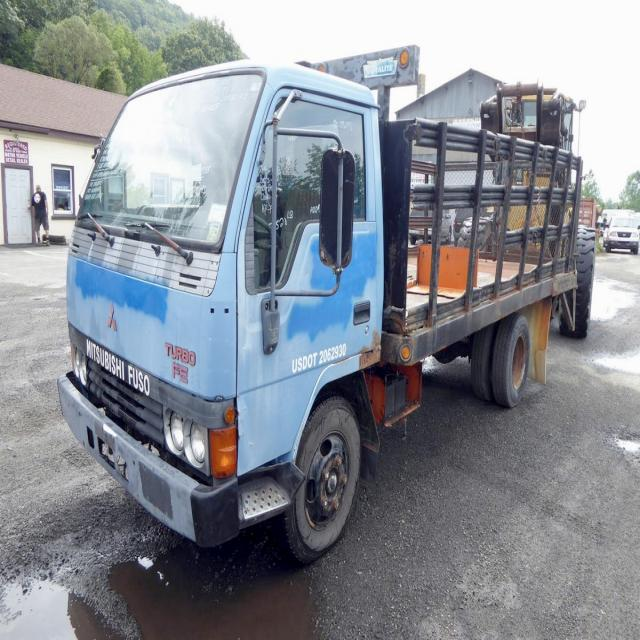truck: (55, 54, 580, 560)
